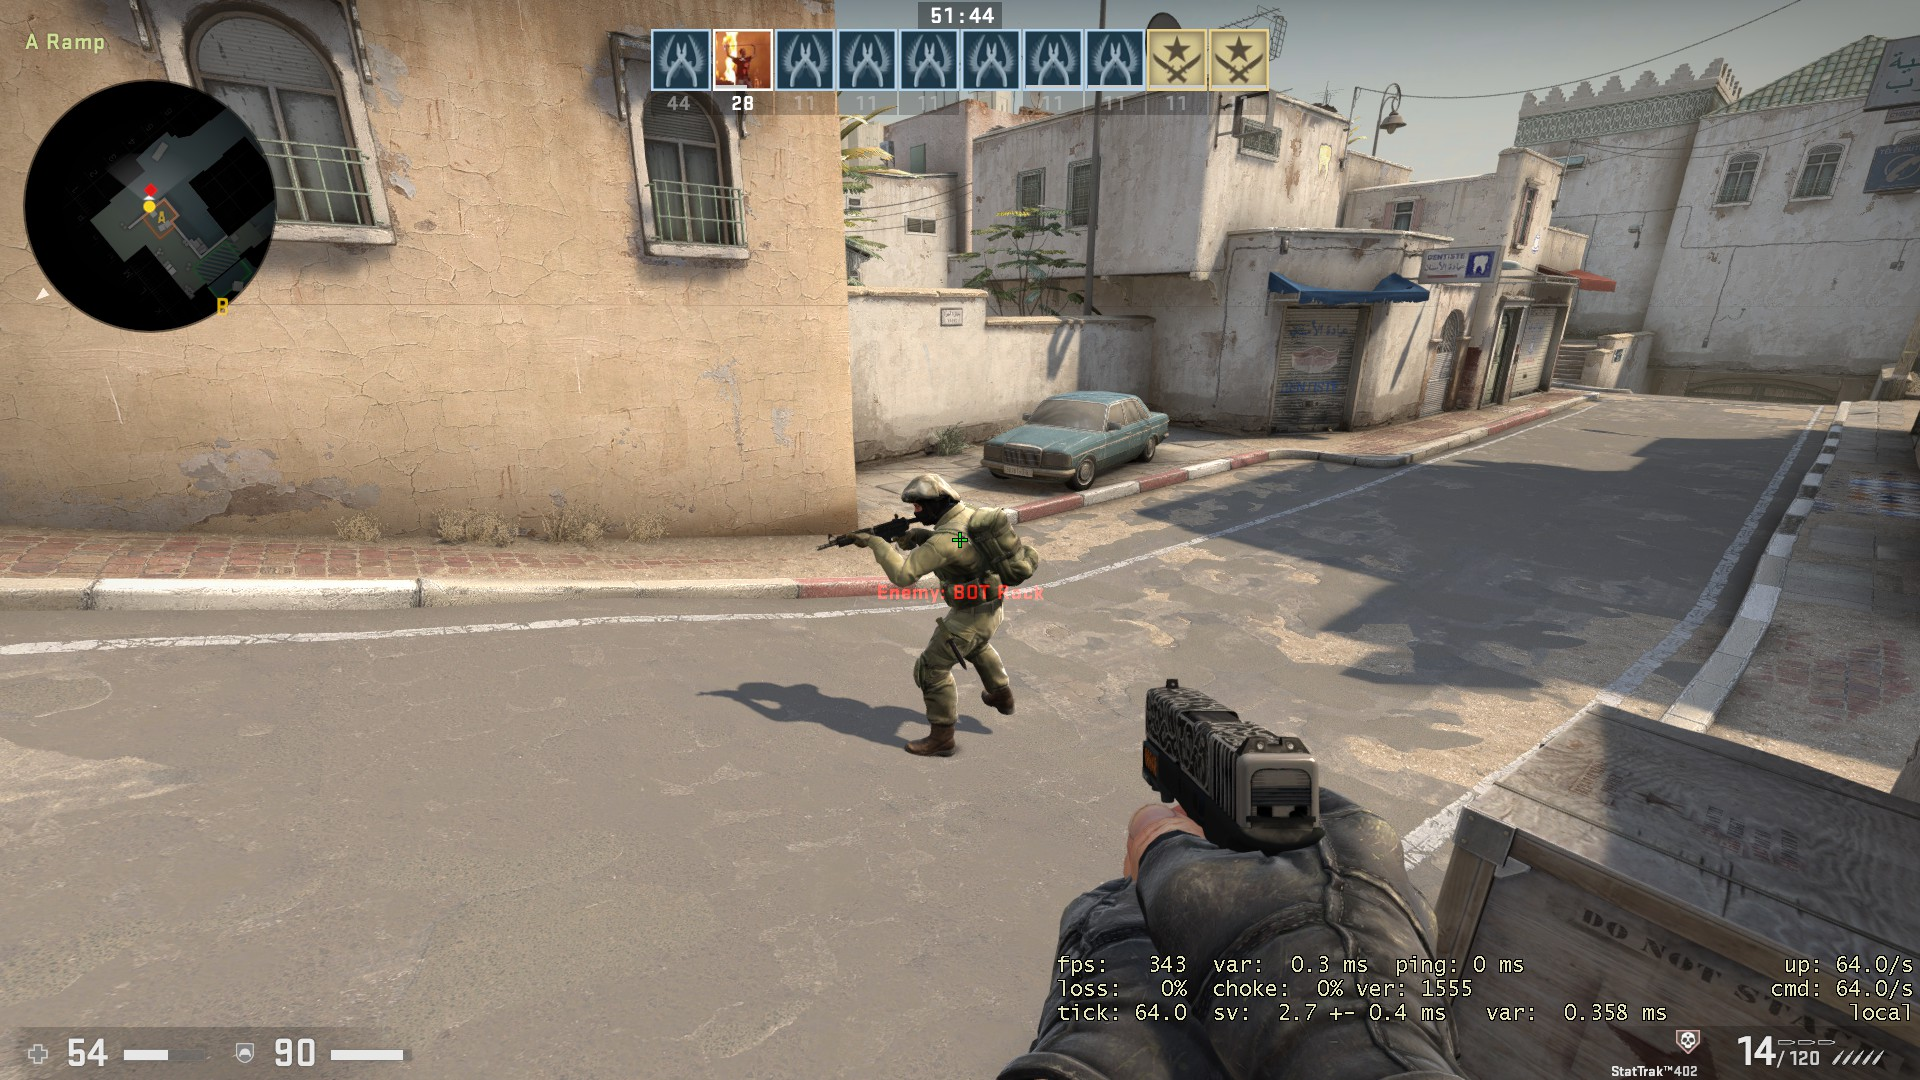ct: (808, 466, 1042, 763)
player: (809, 465, 1046, 764)
